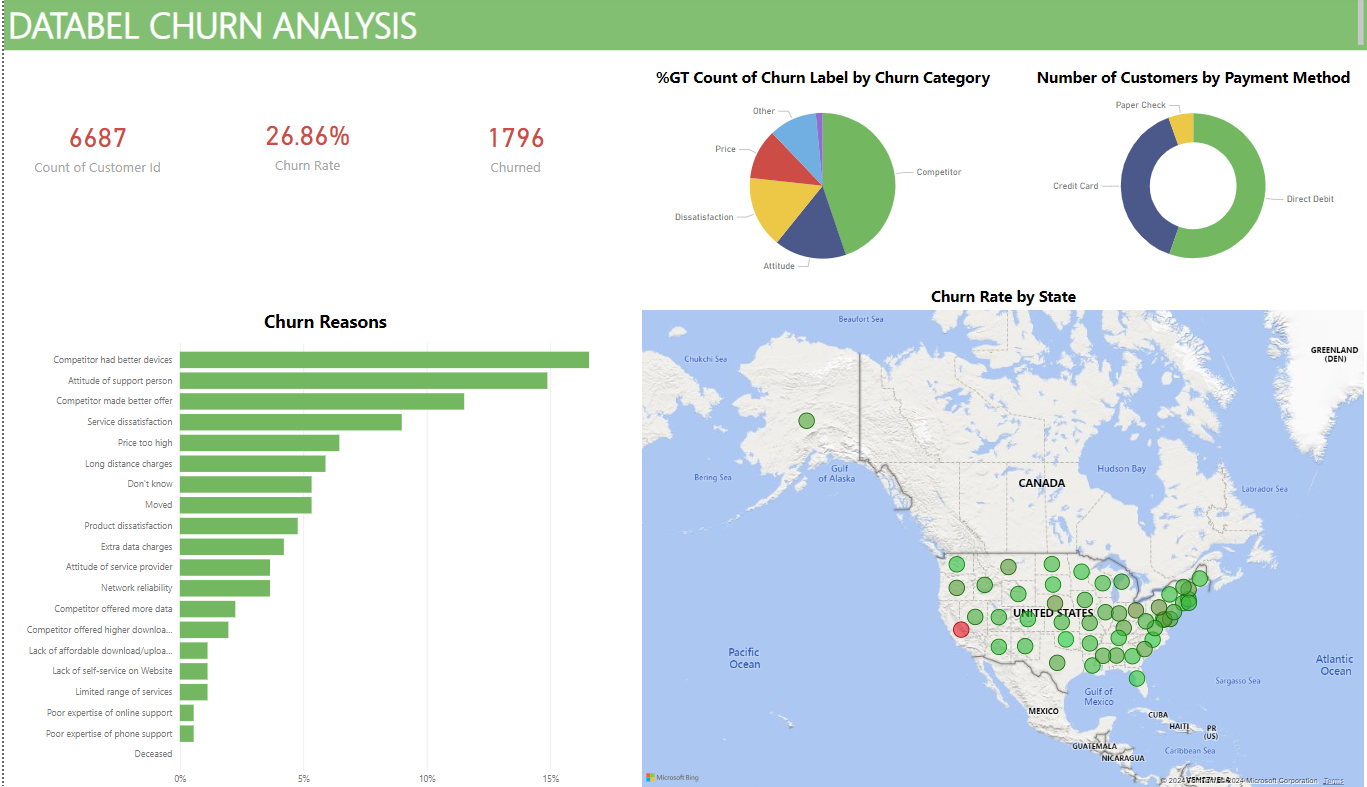

The dashboard page shown, as its layout file describes it:
{"tool":"powerbi","page":{"name":"Overview","canvas":[1640,960],"ordinal":0},"visuals":[{"type":"card","fields":{"Values":["Databel - Data.Number of Customers"]},"box":[0,120.2,225.4,120.2],"z":0},{"type":"card","fields":{"Values":["Databel - Data.Churn Rate"]},"box":[235.9,117.2,258.4,120.2],"z":1000},{"type":"card","fields":{"Values":["Databel - Data.Number of Churned Customers"]},"box":[494.3,120.2,241.9,120.2],"z":2000},{"type":"clusteredBarChart","title":"Churn Reasons","fields":{"Y":["Sum(Databel - Data.Number of Customers in Group)"],"Category":["Databel - Data.Churn Reason"]},"box":[10.5,377.1,751.2,582.9],"z":3000},{"type":"pieChart","fields":{"Y":["CountNonNull(Databel - Data.Churn Label)"],"Category":["Databel - Data.Churn Category"]},"box":[761.7,85.6,444.7,262.9],"z":4000},{"type":"donutChart","fields":{"Y":["Databel - Data.Number of Customers"],"Category":["Databel - Data.Payment Method"]},"box":[1218.4,85.6,422.2,262.9],"z":5000},{"type":"map","title":"Churn Rate by State","fields":{"Category":["Databel - Data.State"]},"box":[761.1,348,878.9,611.7],"z":6000},{"type":"textbox","box":[0,0,1640.6,66.1],"z":6001}]}

Visuals, with their boxes in screenshot pixels (x1, y1, x2, y2), scaled from the page's 1640x960 canvas onto the 1367x787 screenshot:
card - Databel - Data.Number of Customers: 0,99,188,197
card - Databel - Data.Churn Rate: 197,96,412,195
card - Databel - Data.Number of Churned Customers: 412,99,614,197
"Churn Reasons" clusteredBarChart: 9,309,635,786
pieChart - CountNonNull(Databel - Data.Churn Label) x Databel - Data.Churn Category: 635,70,1006,286
donutChart - Databel - Data.Number of Customers x Databel - Data.Payment Method: 1016,70,1366,286
"Churn Rate by State" map: 634,285,1366,786
textbox: 0,0,1366,54
